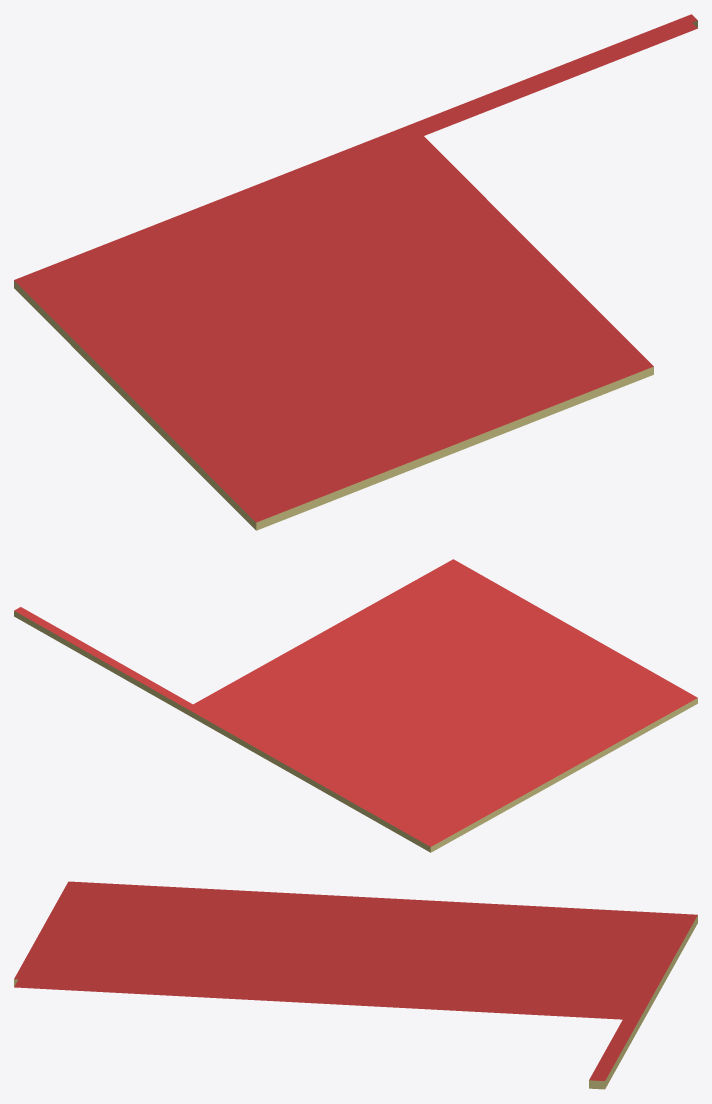
3 renders of one model, top to bottom at view 1: azimuth 30°, elevation 25°; view 2: azimuth 150°, elevation 25°; view 3: azimuth 270°, elevation 25°, orthographic. The views are drawn at different scales.
Bounding box in the file's own units: 8.93 × 7.43 × 1.87.
